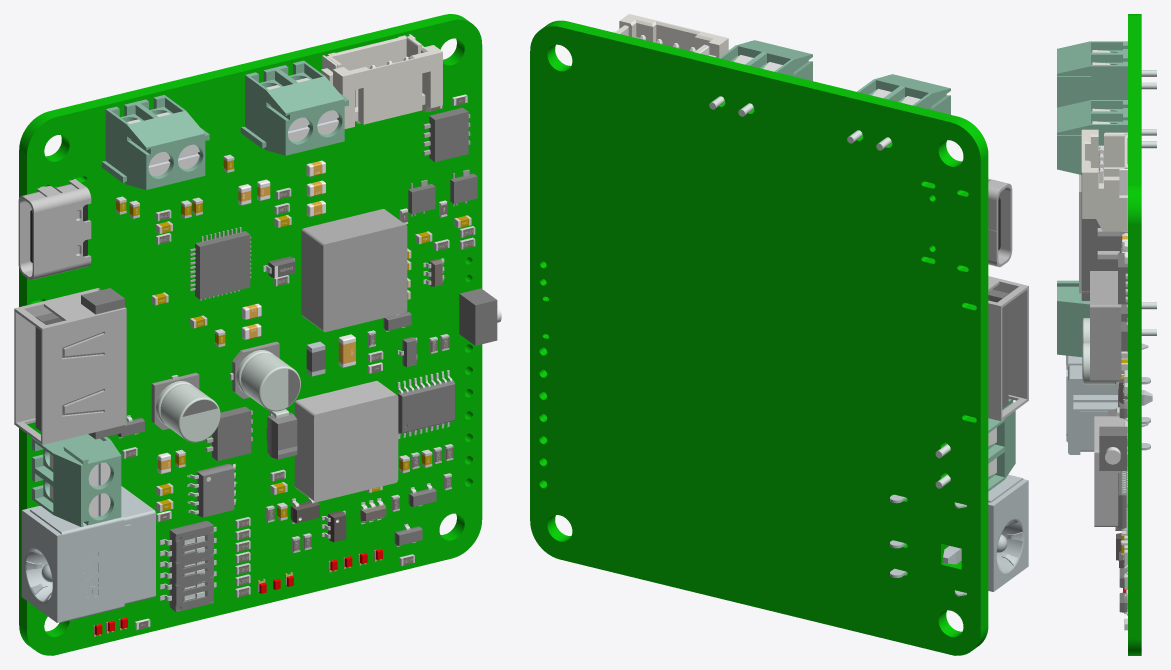
File: bms.glb
3 renders of one model, left to right at view 1: azimuth 30°, elevation 25°; view 2: azimuth 150°, elevation 25°; view 3: azimuth 270°, elevation 25°, orthographic. The views are drawn at different scales.
Visible parts, largest first — view 1: Solar Energy Manager A-V2.2_step.prt; view 2: Solar Energy Manager A-V2.2_step.prt; view 3: Solar Energy Manager A-V2.2_step.prt.
Part boxes in pixels (x1,y1,x2,y2): Solar Energy Manager A-V2.2_step.prt: (14, 14, 501, 655); Solar Energy Manager A-V2.2_step.prt: (530, 14, 1028, 655); Solar Energy Manager A-V2.2_step.prt: (1057, 14, 1156, 655).
Size of the model in its own units: 56.39 by 61.15 by 11.8.
